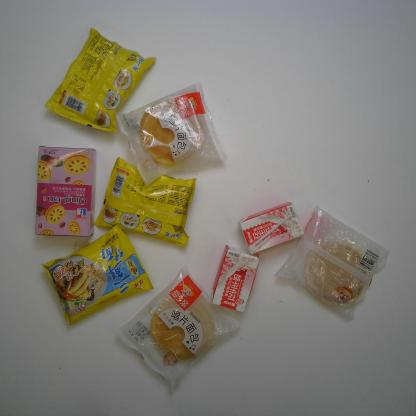Dessert: (115, 265, 244, 393), (274, 205, 392, 320), (115, 80, 228, 187), (34, 145, 97, 237)
Instant Noodles: (42, 26, 157, 134), (40, 224, 156, 327), (94, 156, 197, 248)
Milk: (238, 201, 305, 255), (209, 244, 260, 314)
